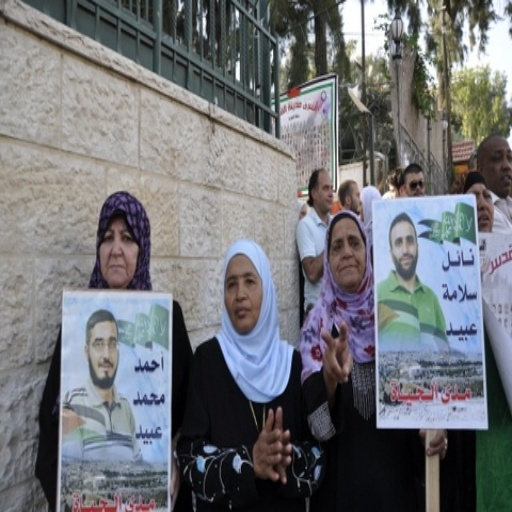hand: (320, 317, 355, 386), (272, 406, 293, 484), (418, 423, 451, 465)
